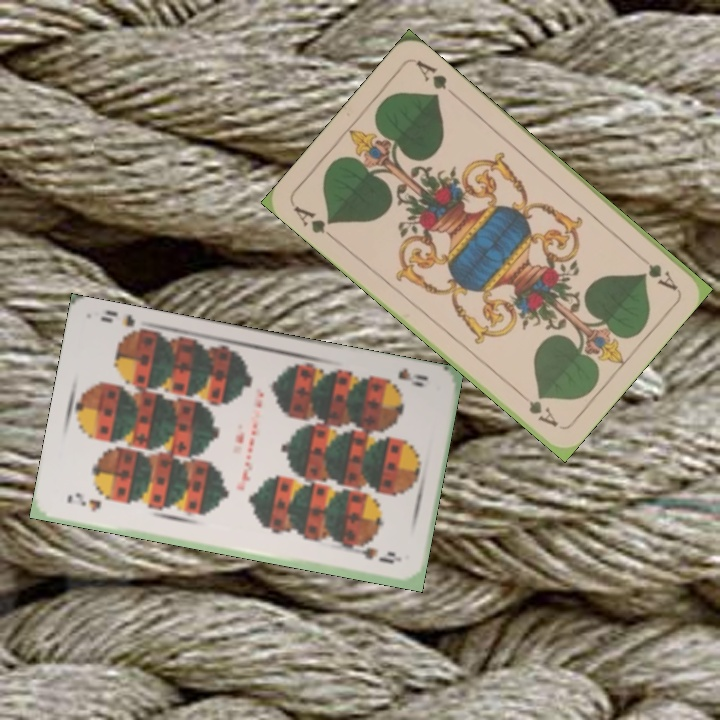GA: (631, 248, 680, 293), (289, 202, 339, 244)
S9: (376, 364, 431, 390), (63, 490, 104, 514)
